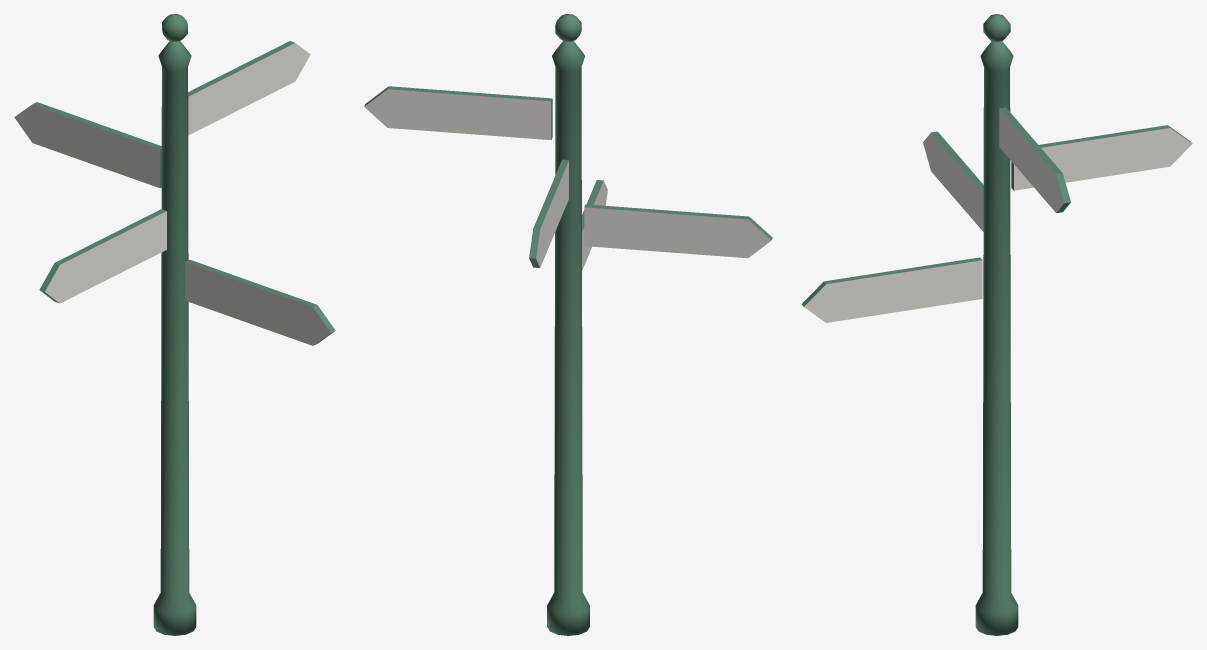
File: signpost.glb
The picture shows the model from 3 angles, left to right: view 1: azimuth 30°, elevation 25°; view 2: azimuth 150°, elevation 25°; view 3: azimuth 270°, elevation 25°; orthographic projection.
Parts seen in each view (by area): view 1: signpost; view 2: signpost; view 3: signpost.
Boxes of the visible parts, <box> form: signpost: <box>14,14,335,635</box>; signpost: <box>364,14,772,635</box>; signpost: <box>801,14,1192,635</box>.
Size of the model in its own units: 1.65 by 2.84 by 1.65.
